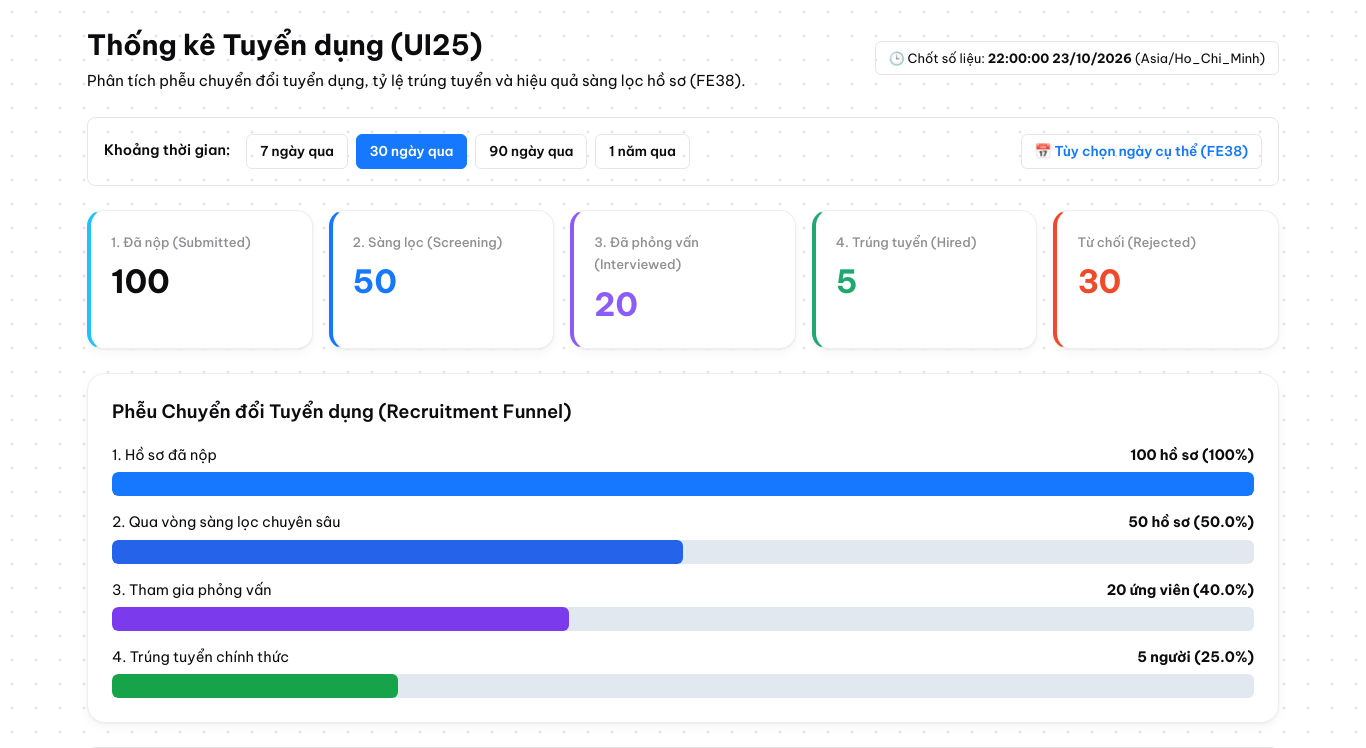
Test: RecruiterStatisticsPage (UI25, FE38) › FE38: validates maximum period limit of 366 days in custom date range
Open custom date range form
Click the button with test id "toggle-custom-range-btn". click: [1141, 151]
box: [1021,134,1262,169]
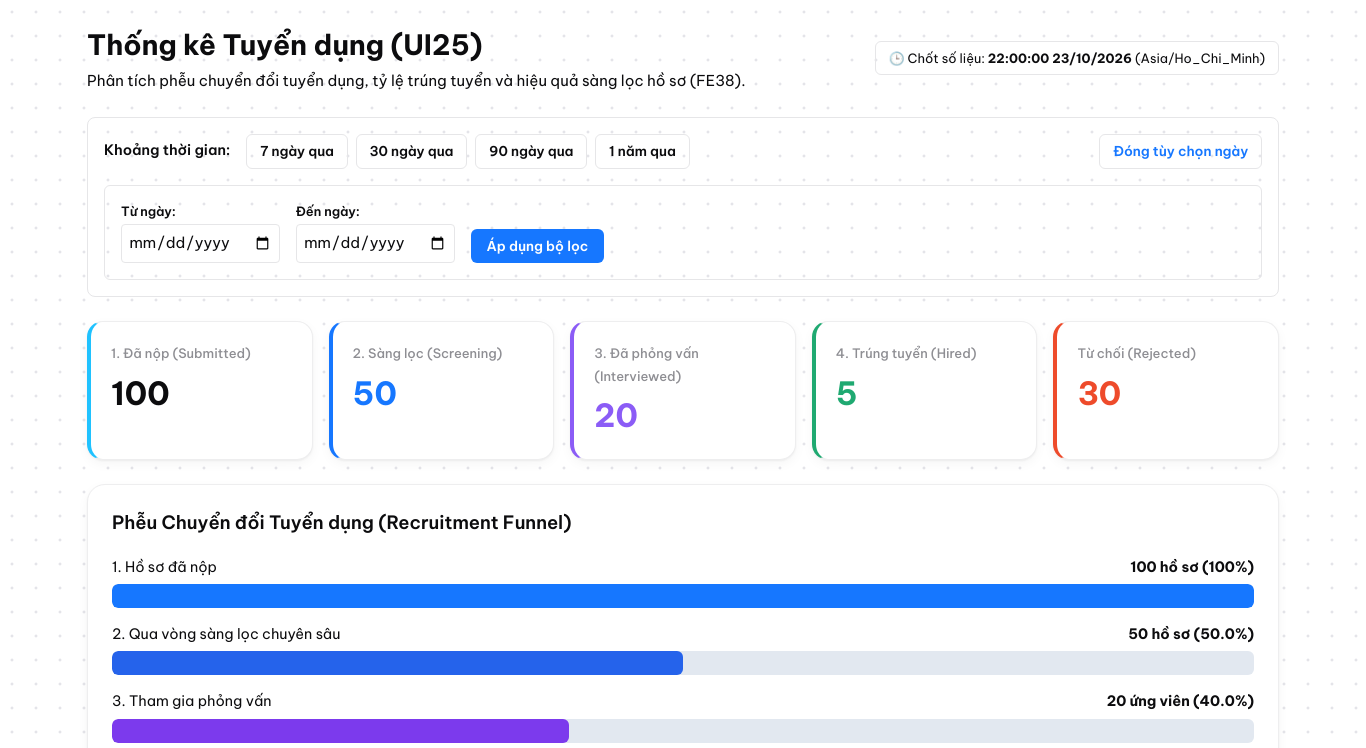
Type "2024-01-01" into the date field with test id "custom-start-date-input". click: [200, 244]
box: [121,224,280,263]
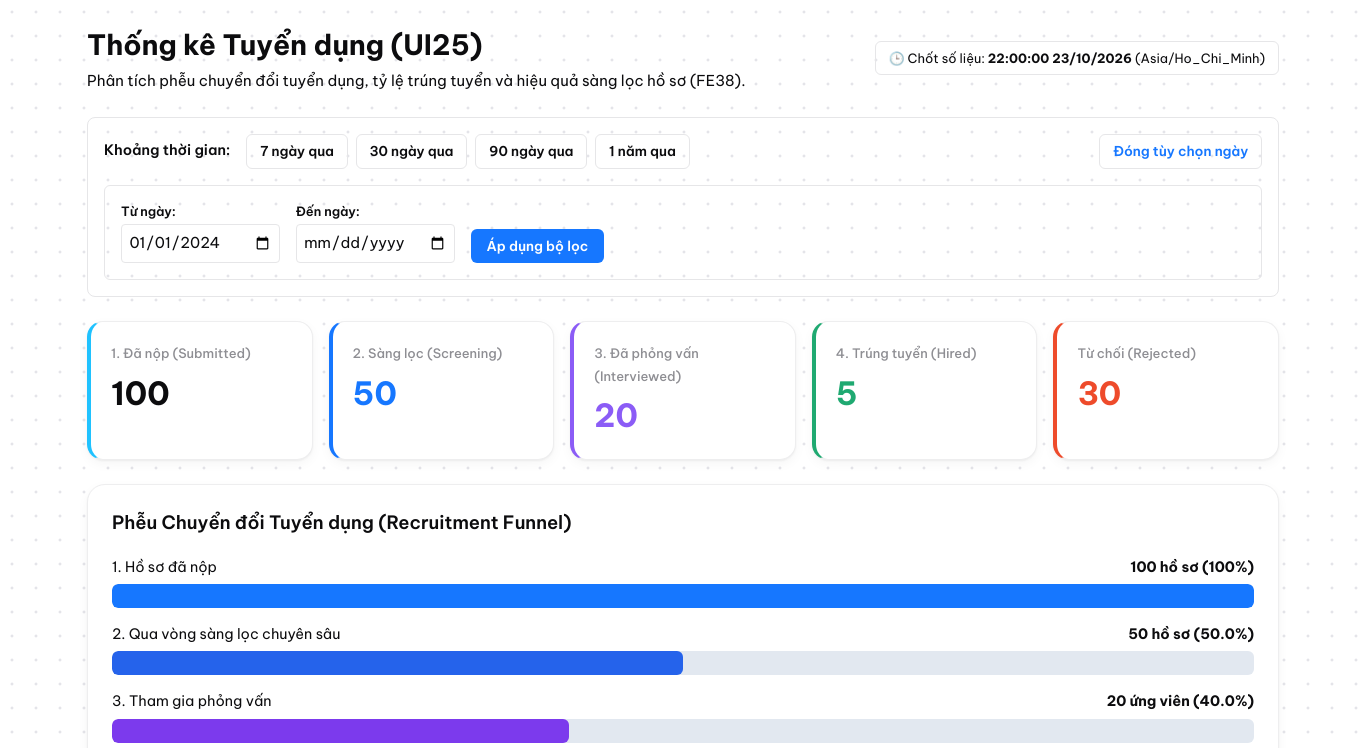
Type "2025-06-01" into the date field with test id "custom-end-date-input". click: [375, 244]
box: [296,224,455,263]
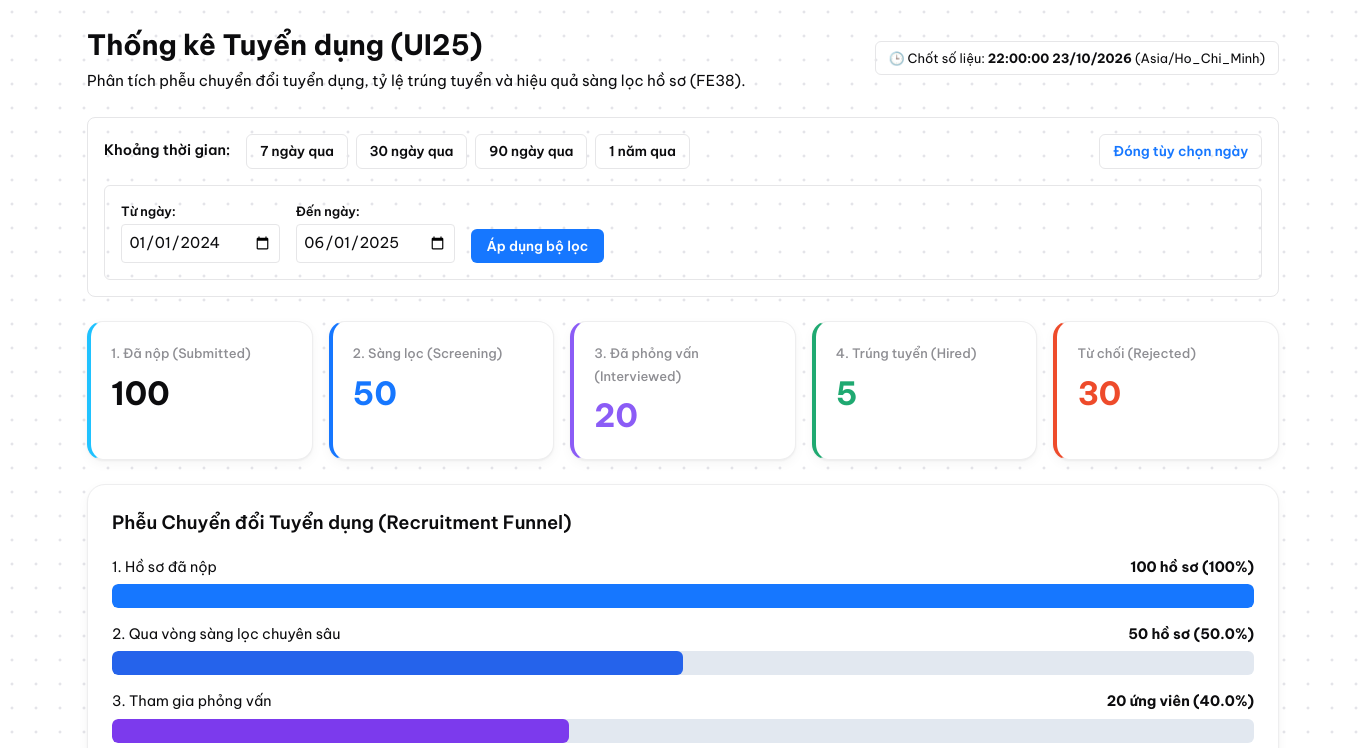
Click the button with test id "apply-custom-range-btn". click: [538, 246]
box: [471,229,604,263]
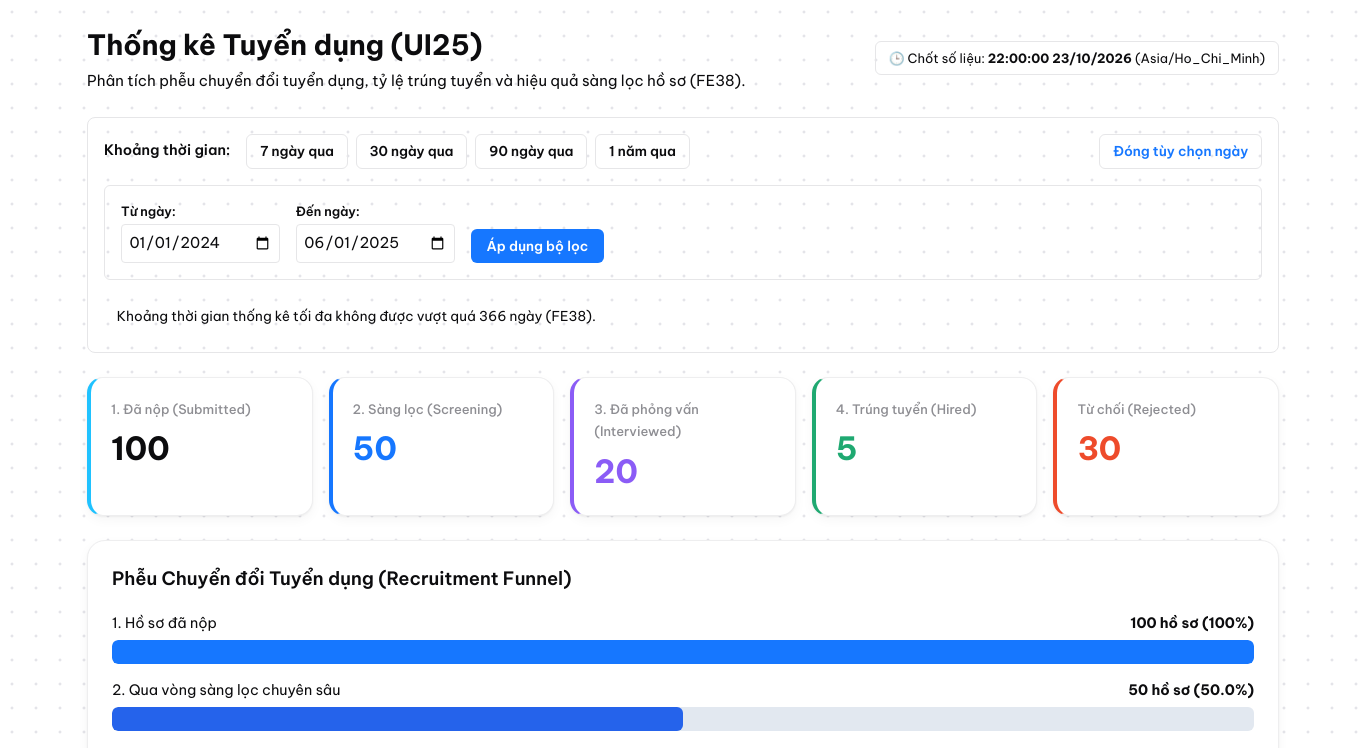
Now the text "Khoảng thời gian thống kê tối đa không được vượt quá 366 ngày" is shown, box [117,307,596,325]
